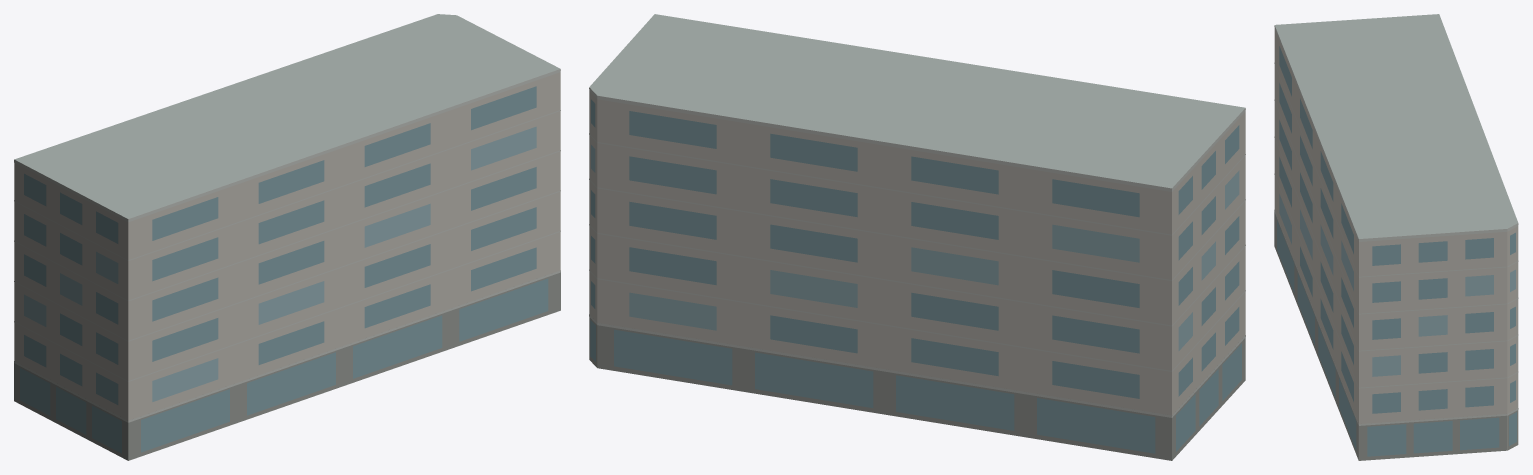
The model's file is survey-upis-32969594.glb.
3 views of the same model, side by side, from view 1: azimuth 30°, elevation 25°; view 2: azimuth 150°, elevation 25°; view 3: azimuth 270°, elevation 25° (orthographic). The views are drawn at different scales.
Visible parts, largest first — view 1: survey-upis-32969594.tmp; view 2: survey-upis-32969594.tmp; view 3: survey-upis-32969594.tmp.
Boxes of the visible parts, x1,y1,x2,y2 form: survey-upis-32969594.tmp: (14, 14, 560, 460); survey-upis-32969594.tmp: (589, 14, 1245, 460); survey-upis-32969594.tmp: (1274, 14, 1518, 460).
Bounding box in the file's own units: 40.07 × 18.4 × 18.36.
